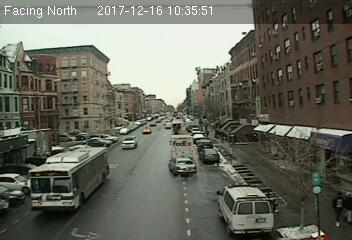bus: (29, 145, 109, 212)
car: (170, 157, 196, 174), (200, 149, 220, 163), (120, 136, 137, 148), (141, 126, 152, 134)
police: (215, 181, 277, 239)
truck: (168, 134, 194, 159)
